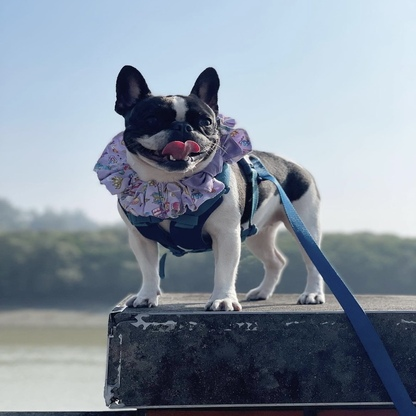bulldog: (112, 63, 329, 313)
